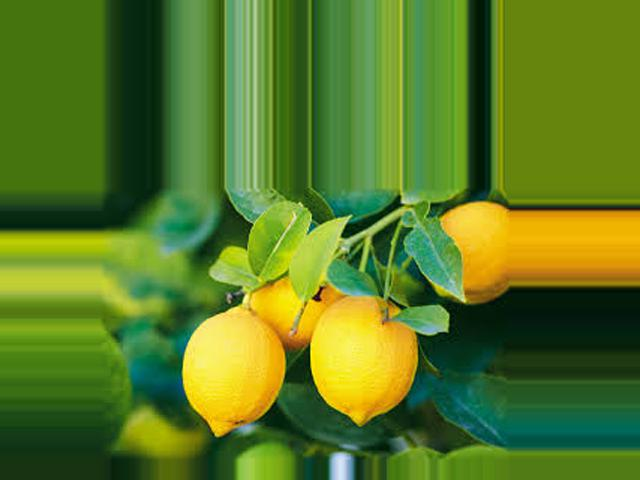lemon: (181, 301, 280, 430)
